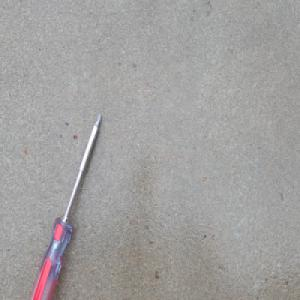Screwdriver: (28, 111, 102, 300)
